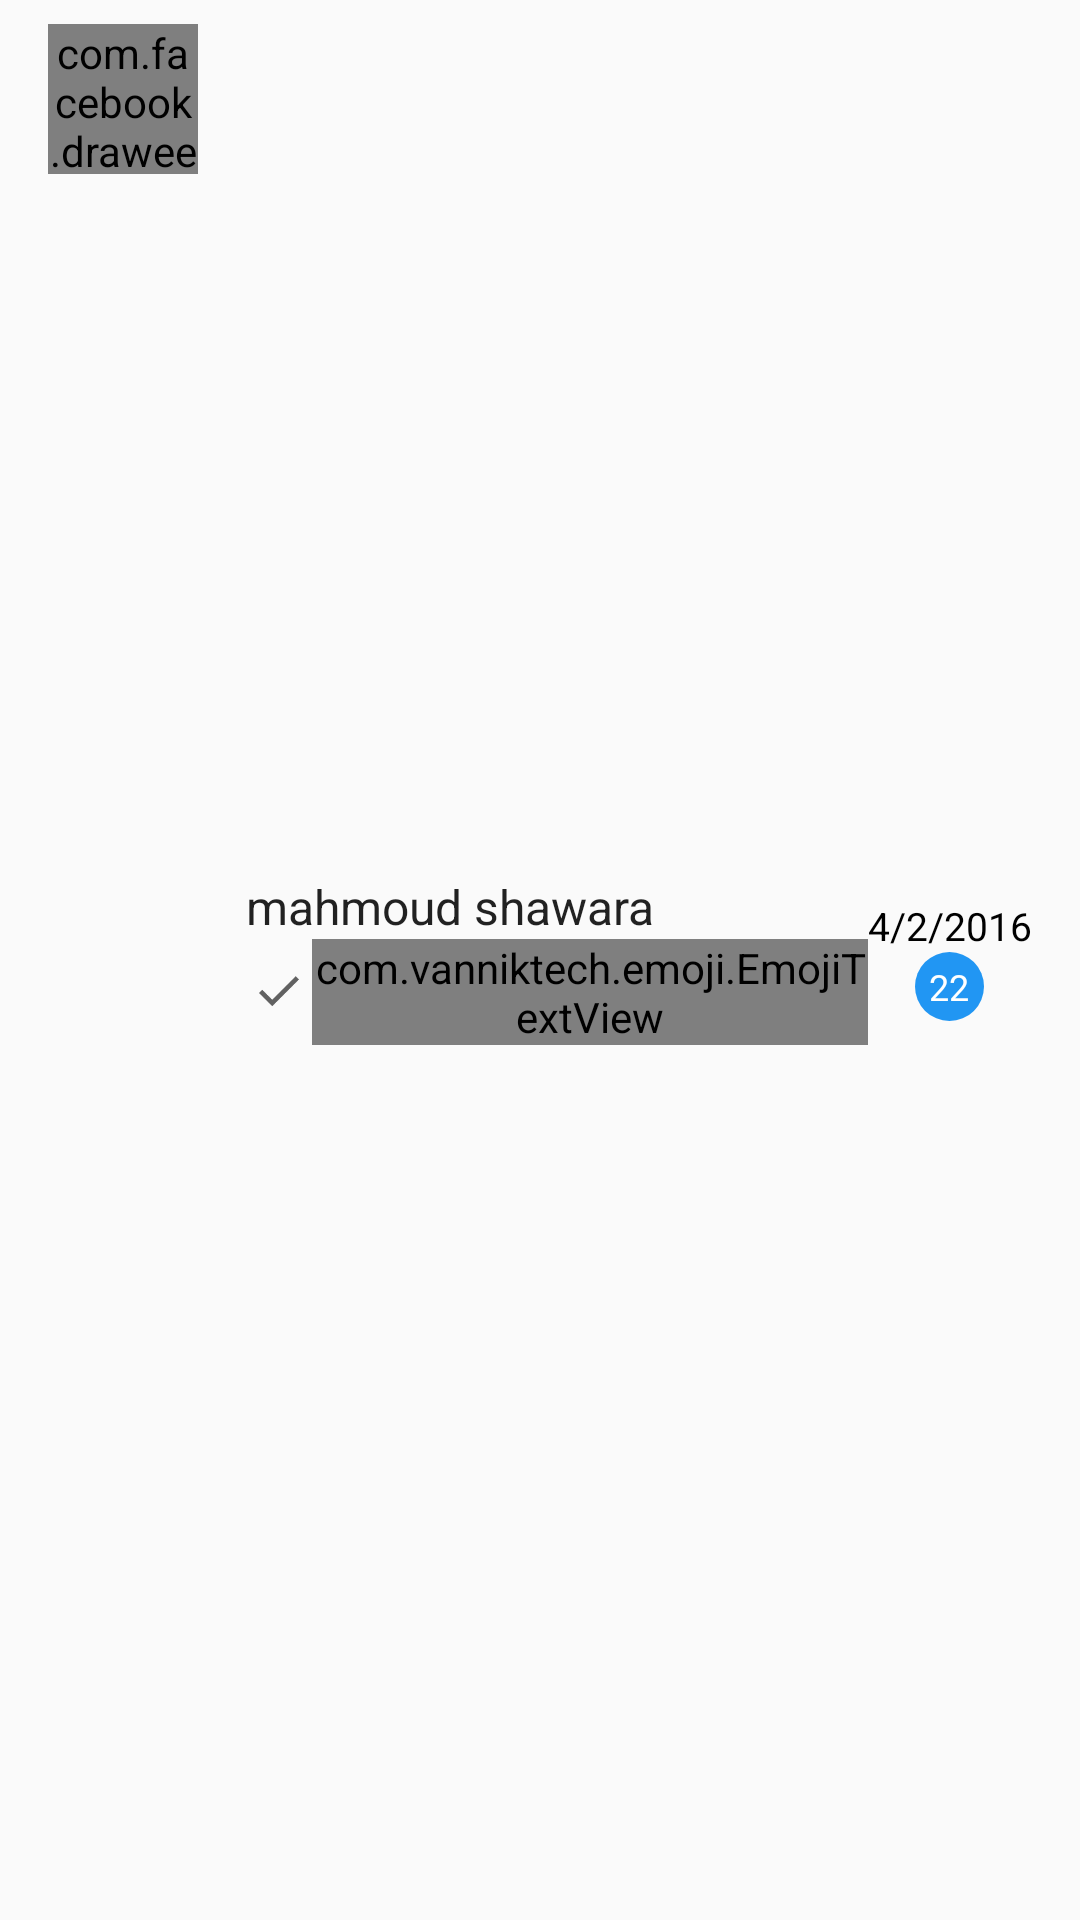

Icon bounding boxes for this 1080w x 1920h phone screenshot, format (x1, y1, x2, y2):
tick: (259, 976, 299, 1006)
